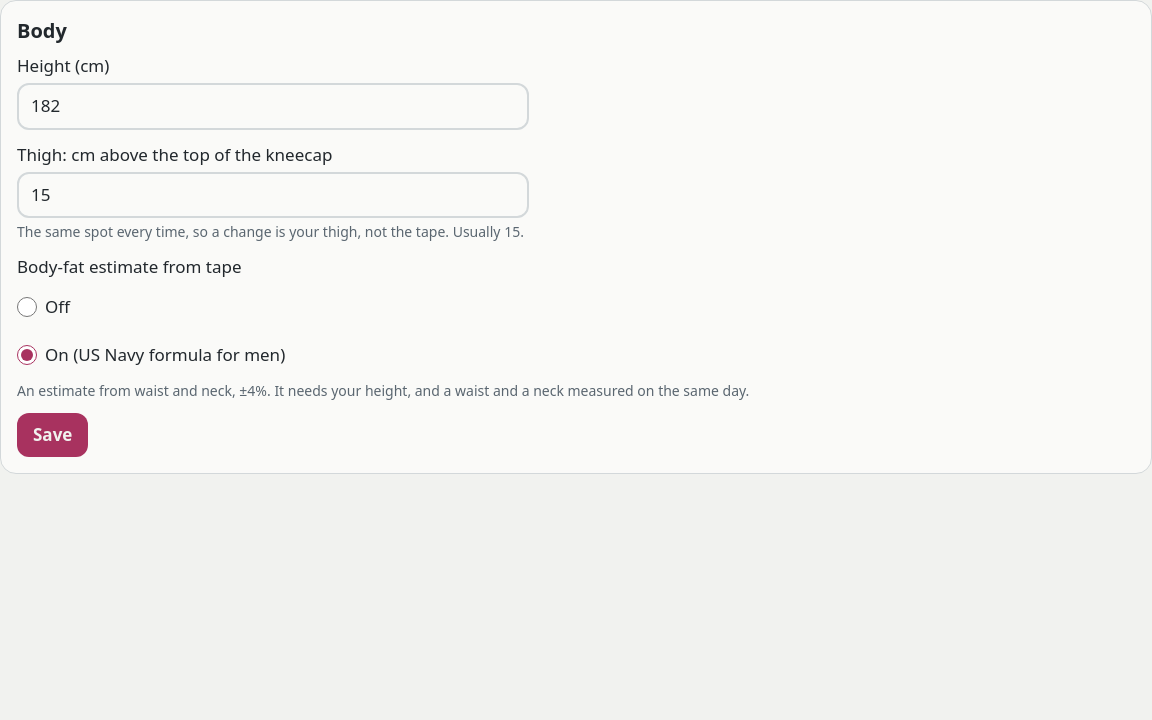
Test case: an empty height is sent as none; an empty thigh is caught first
The width and height of the screenshot is (1152, 720).
Expected: the field labelled "Height (cm)" holds "182", [17,83,529,130]
Clear the field labelled "above the top of the kneecap" at (273, 195), box [17,172,529,218]
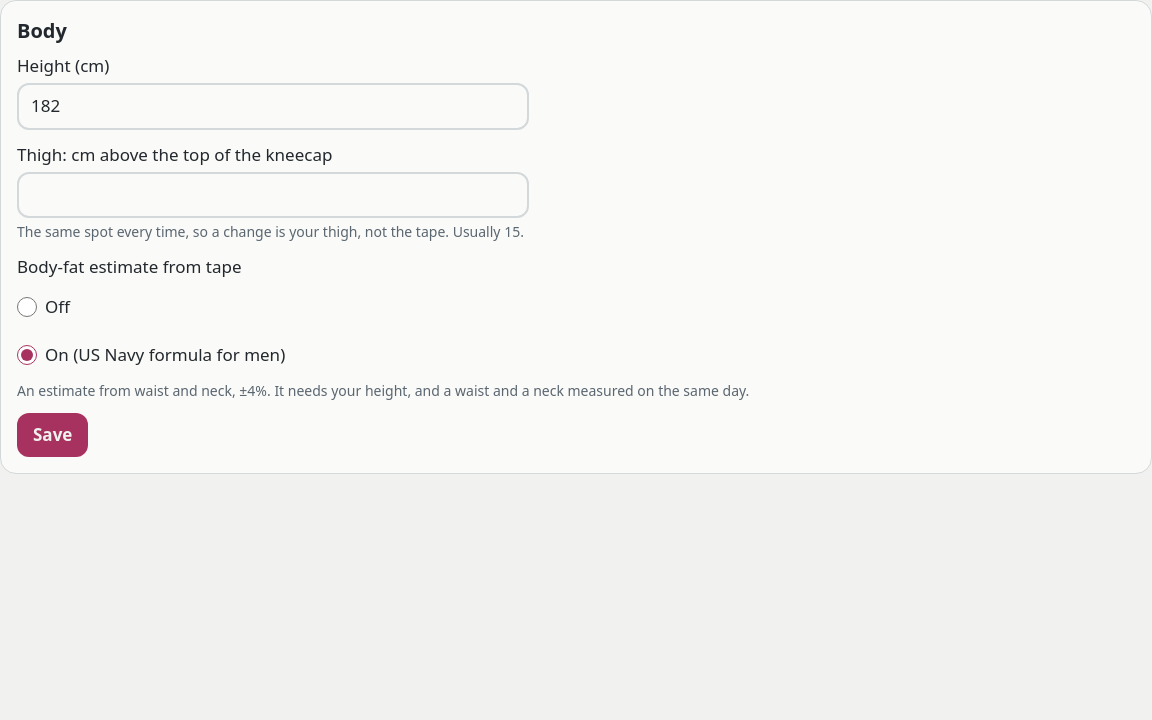
Click the button "Save" at (53, 435), box [17,413,88,457]
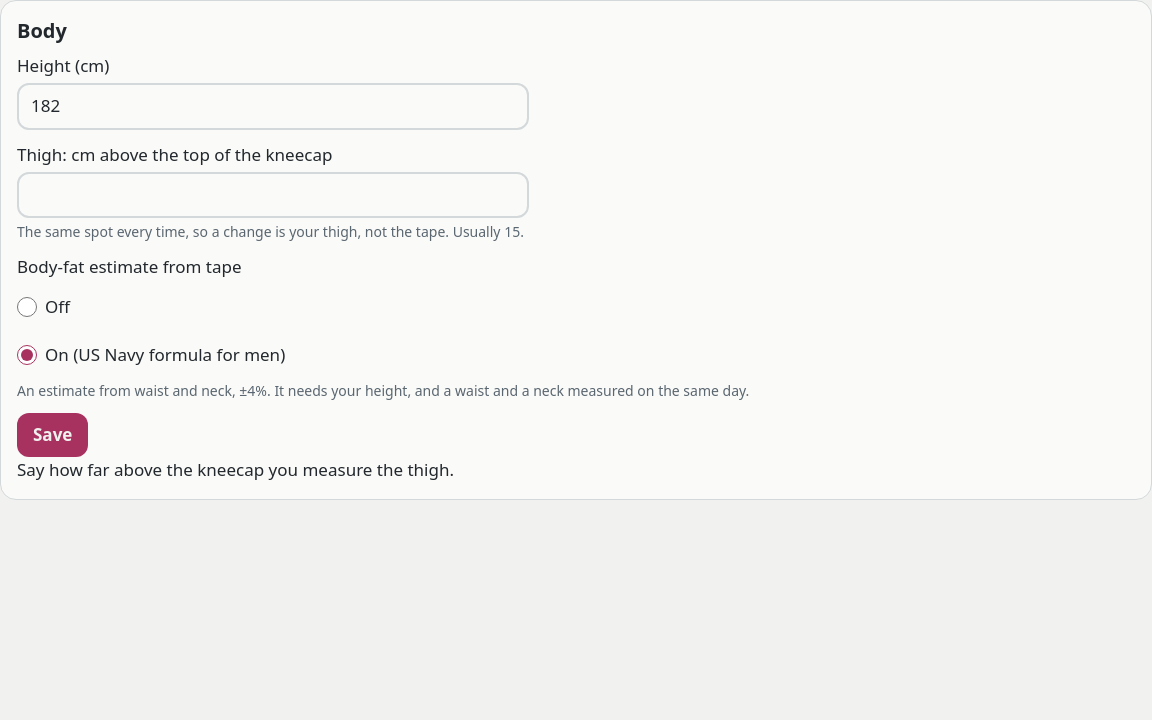
Expected: the text "Say how far above the kneecap you measure the thigh." is shown, [17,458,454,481]
Type "15" into the field labelled "above the top of the kneecap" at (273, 195), box [17,172,529,218]
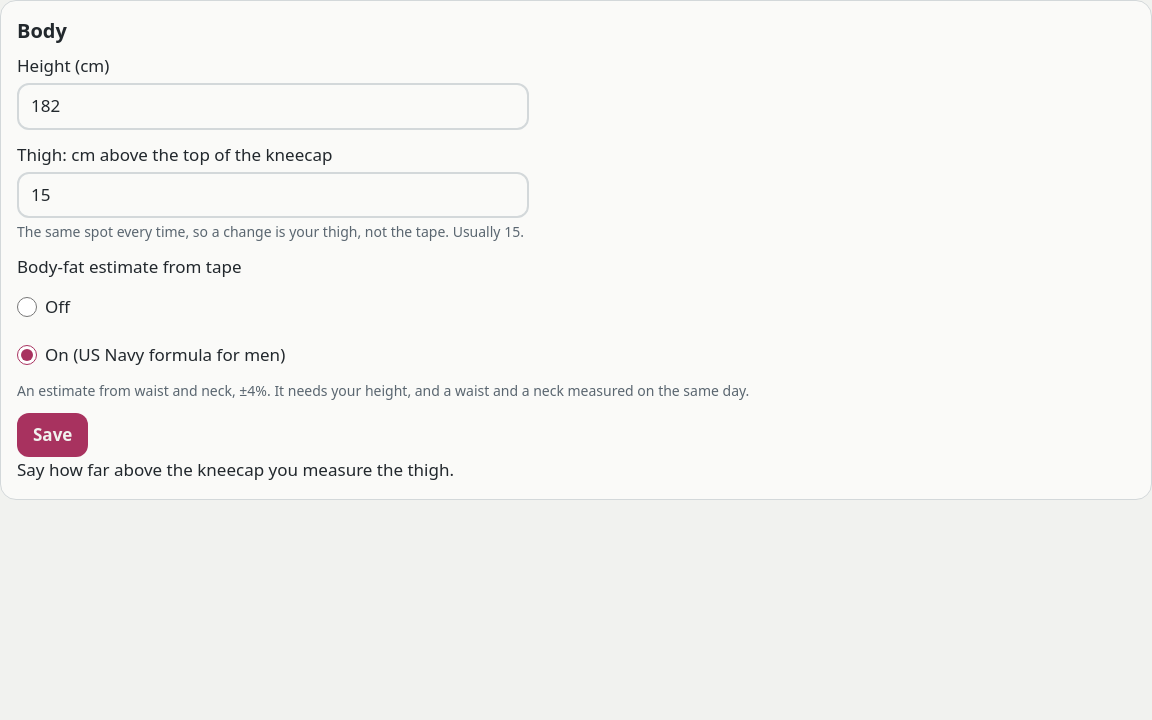
Clear the field labelled "Height (cm)" at (273, 106), box [17,83,529,130]
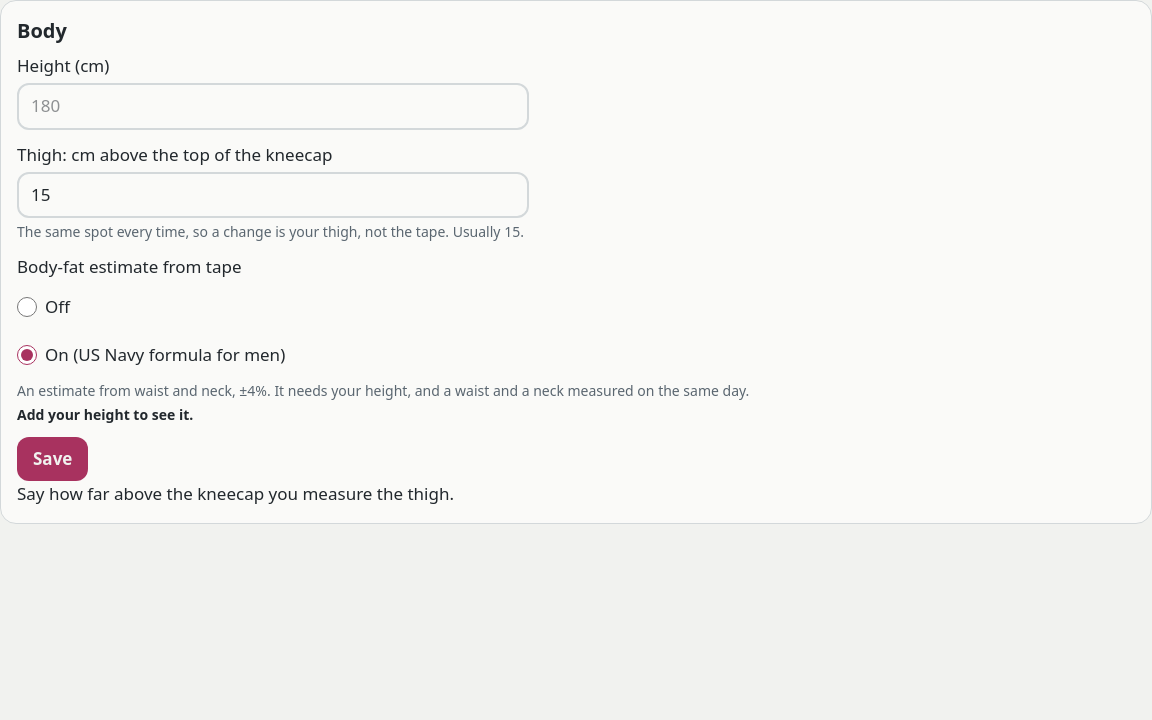
Click the radio button labelled "Off" at (27, 307), box [17,297,37,317]
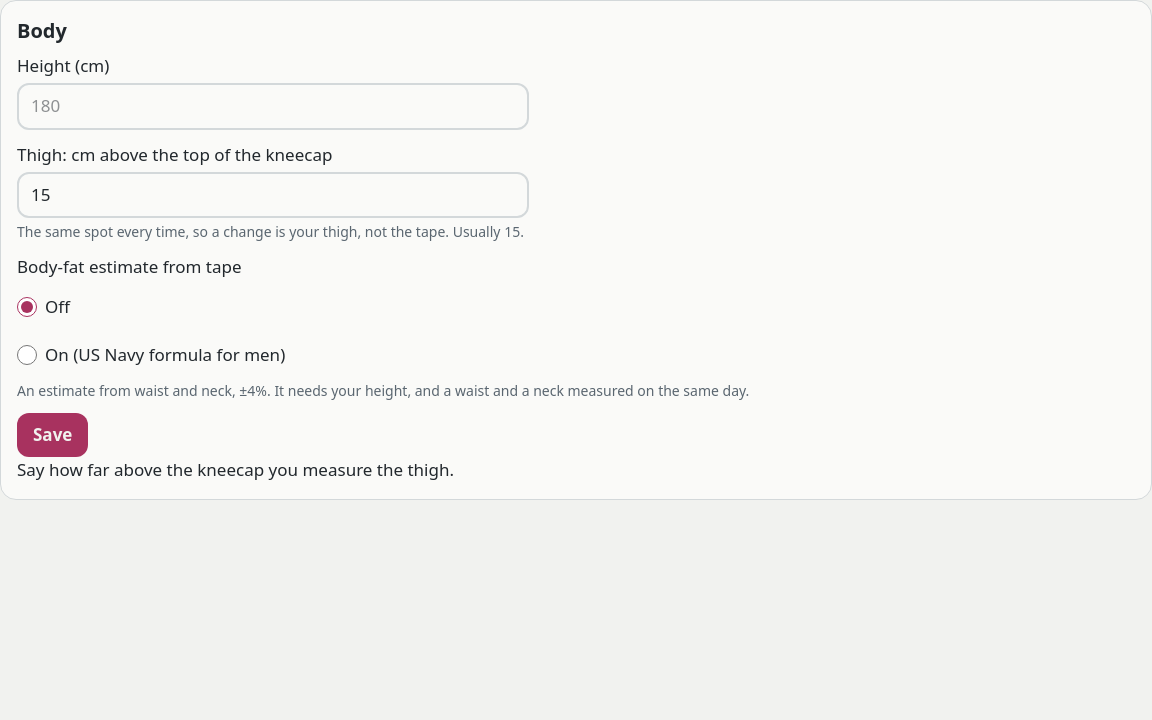
Click the button "Save" at (53, 435), box [17,413,88,457]
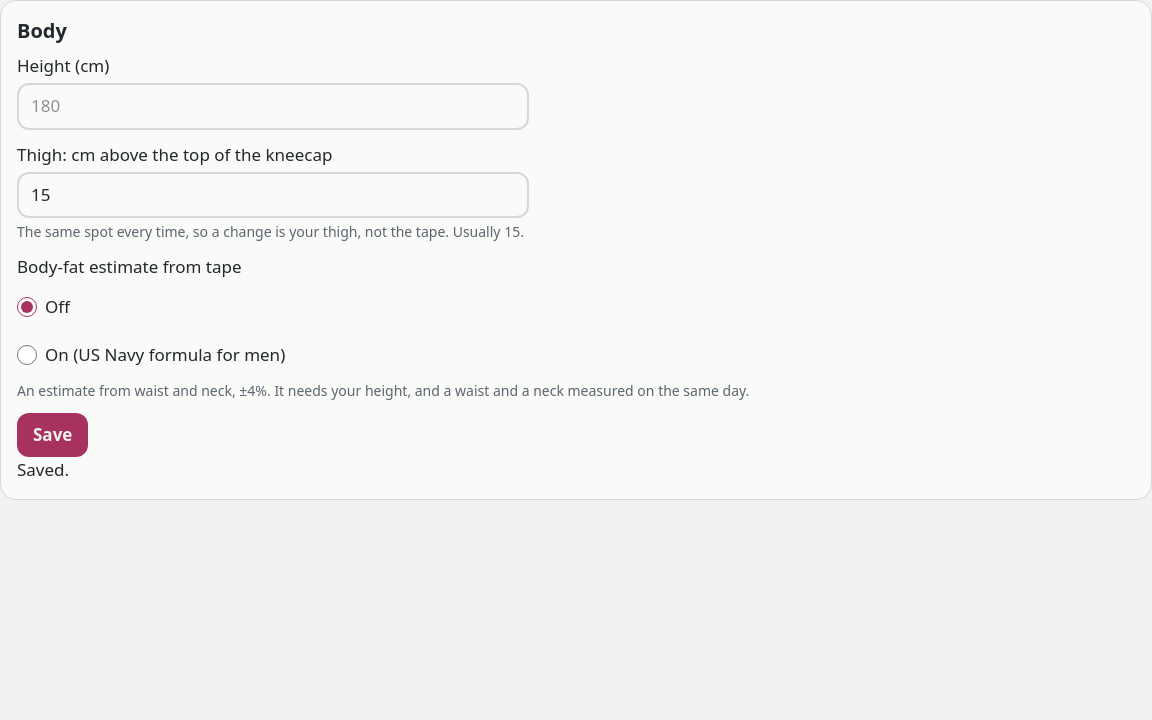
Expected: the text "Saved." is shown, [17,458,69,481]
